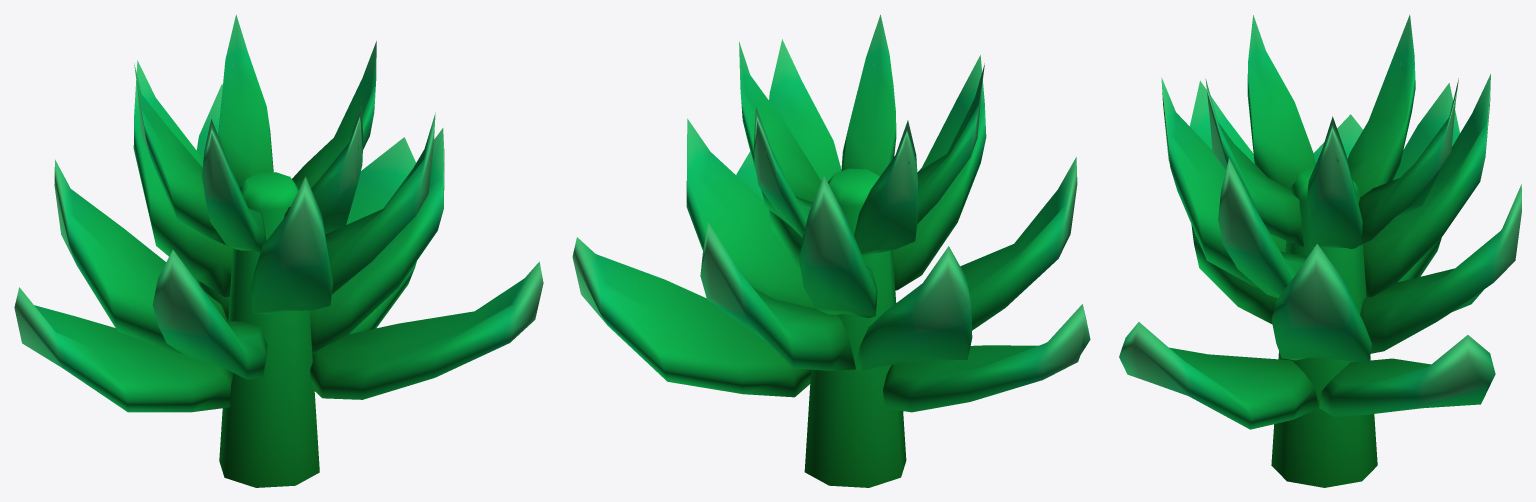
File: Plant_006.glb
3 views of the same model, side by side, from view 1: azimuth 30°, elevation 25°; view 2: azimuth 150°, elevation 25°; view 3: azimuth 270°, elevation 25° (orthographic). The views are drawn at different scales.
Visible parts, largest first — view 1: Plant_006; view 2: Plant_006; view 3: Plant_006.
Part boxes in pixels (box(x1,y1,x2,y2)): Plant_006: box(14, 14, 543, 487); Plant_006: box(572, 14, 1090, 487); Plant_006: box(1119, 14, 1521, 487).
Size of the model in its own units: 0.3166 by 0.2658 by 0.2398.
1 material, 1 textured.
